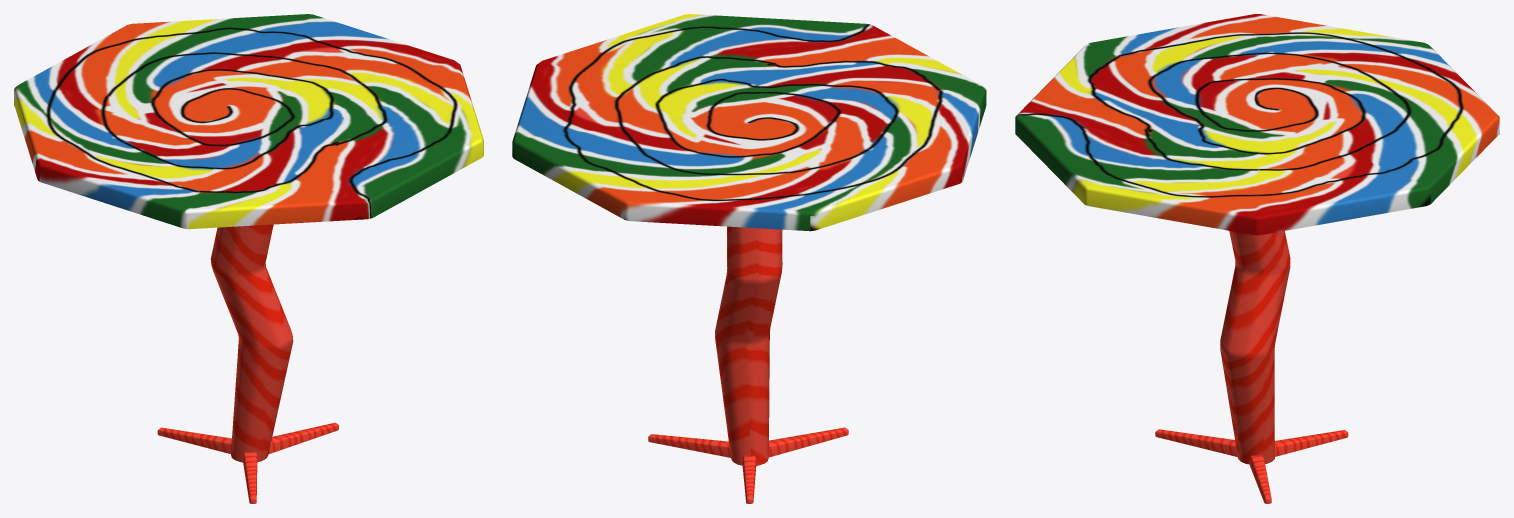
Rendered from Table.fbx.
3 views of the same model, side by side, from view 1: azimuth 30°, elevation 25°; view 2: azimuth 150°, elevation 25°; view 3: azimuth 270°, elevation 25° (orthographic).
Parts seen in each view (by area): view 1: pCylinder1, pCylinder2, pCube2, pCube1, pCube3; view 2: pCylinder1, pCylinder2, pCube3, pCube1, pCube2; view 3: pCylinder1, pCylinder2, pCube3, pCube2, pCube1.
Boxes of the visible parts, box(x1,y1,x2,y2) form: pCylinder1: box(14, 14, 483, 229); pCylinder2: box(210, 224, 293, 462); pCube2: box(157, 427, 231, 453); pCube1: box(268, 422, 338, 453); pCube3: box(243, 452, 257, 503); pCylinder1: box(512, 14, 986, 231); pCylinder2: box(715, 226, 782, 465); pCube3: box(768, 427, 848, 457); pCube1: box(648, 434, 730, 457); pCube2: box(742, 455, 756, 503); pCylinder1: box(1015, 14, 1499, 235); pCylinder2: box(1220, 231, 1290, 464); pCube3: box(1155, 429, 1237, 456); pCube2: box(1275, 430, 1348, 456); pCube1: box(1249, 455, 1271, 503).
Size of the model in its own units: 4.45 by 3.48 by 4.45.
1 material, 1 textured.
